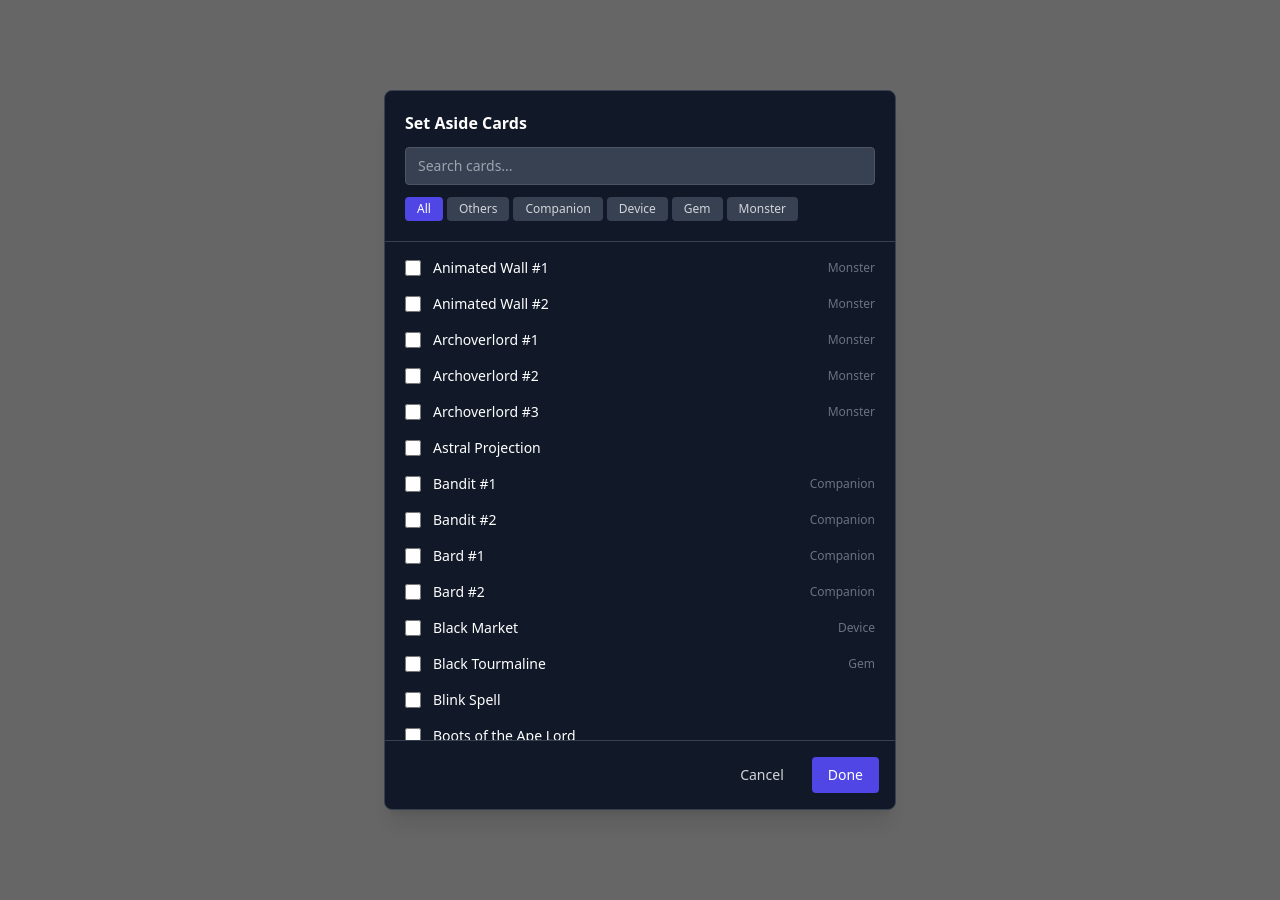
Test: CardPickerModal › filtering by Monster type shows only monsters
The width and height of the screenshot is (1280, 900).
Click the button "Monster". click: (762, 209)
box: [727,197,798,221]
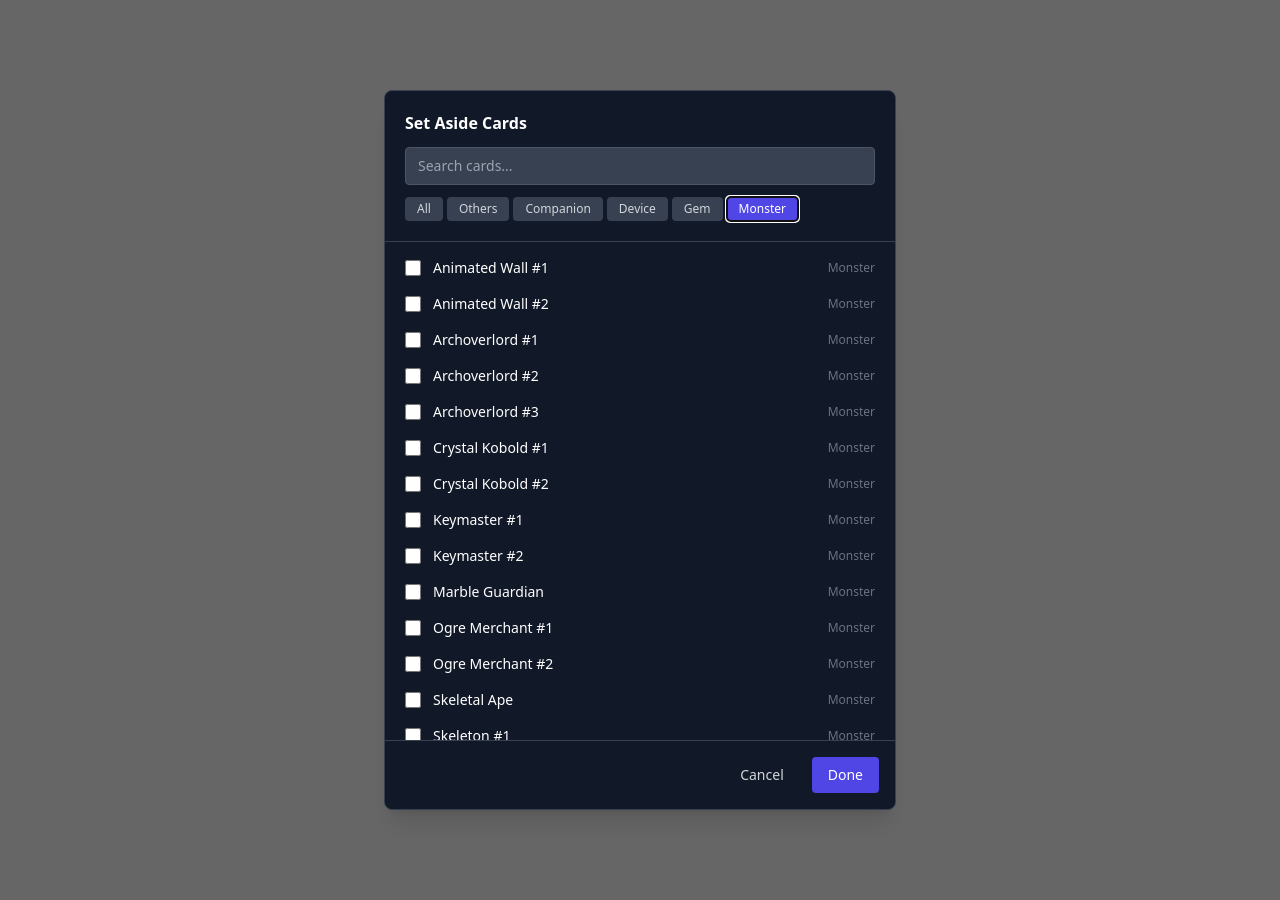
Expected: the text "Archoverlord #1" is shown, [433,330,539,349]
Now the text "Skeleton #1" is shown, box [433,726,510,740]
